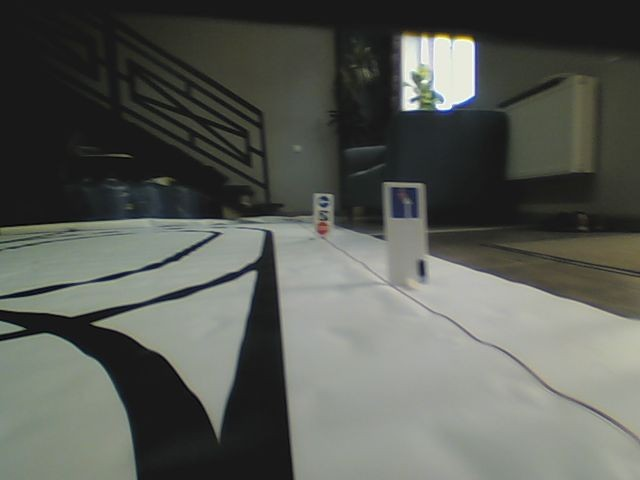priority_movement: (387, 184, 422, 222)
